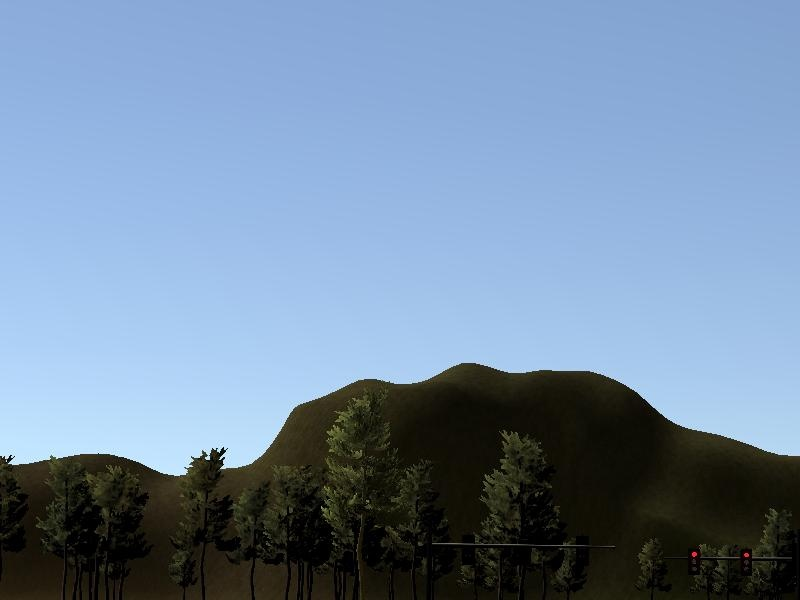RED: (678, 540, 704, 577), (734, 541, 757, 580)
